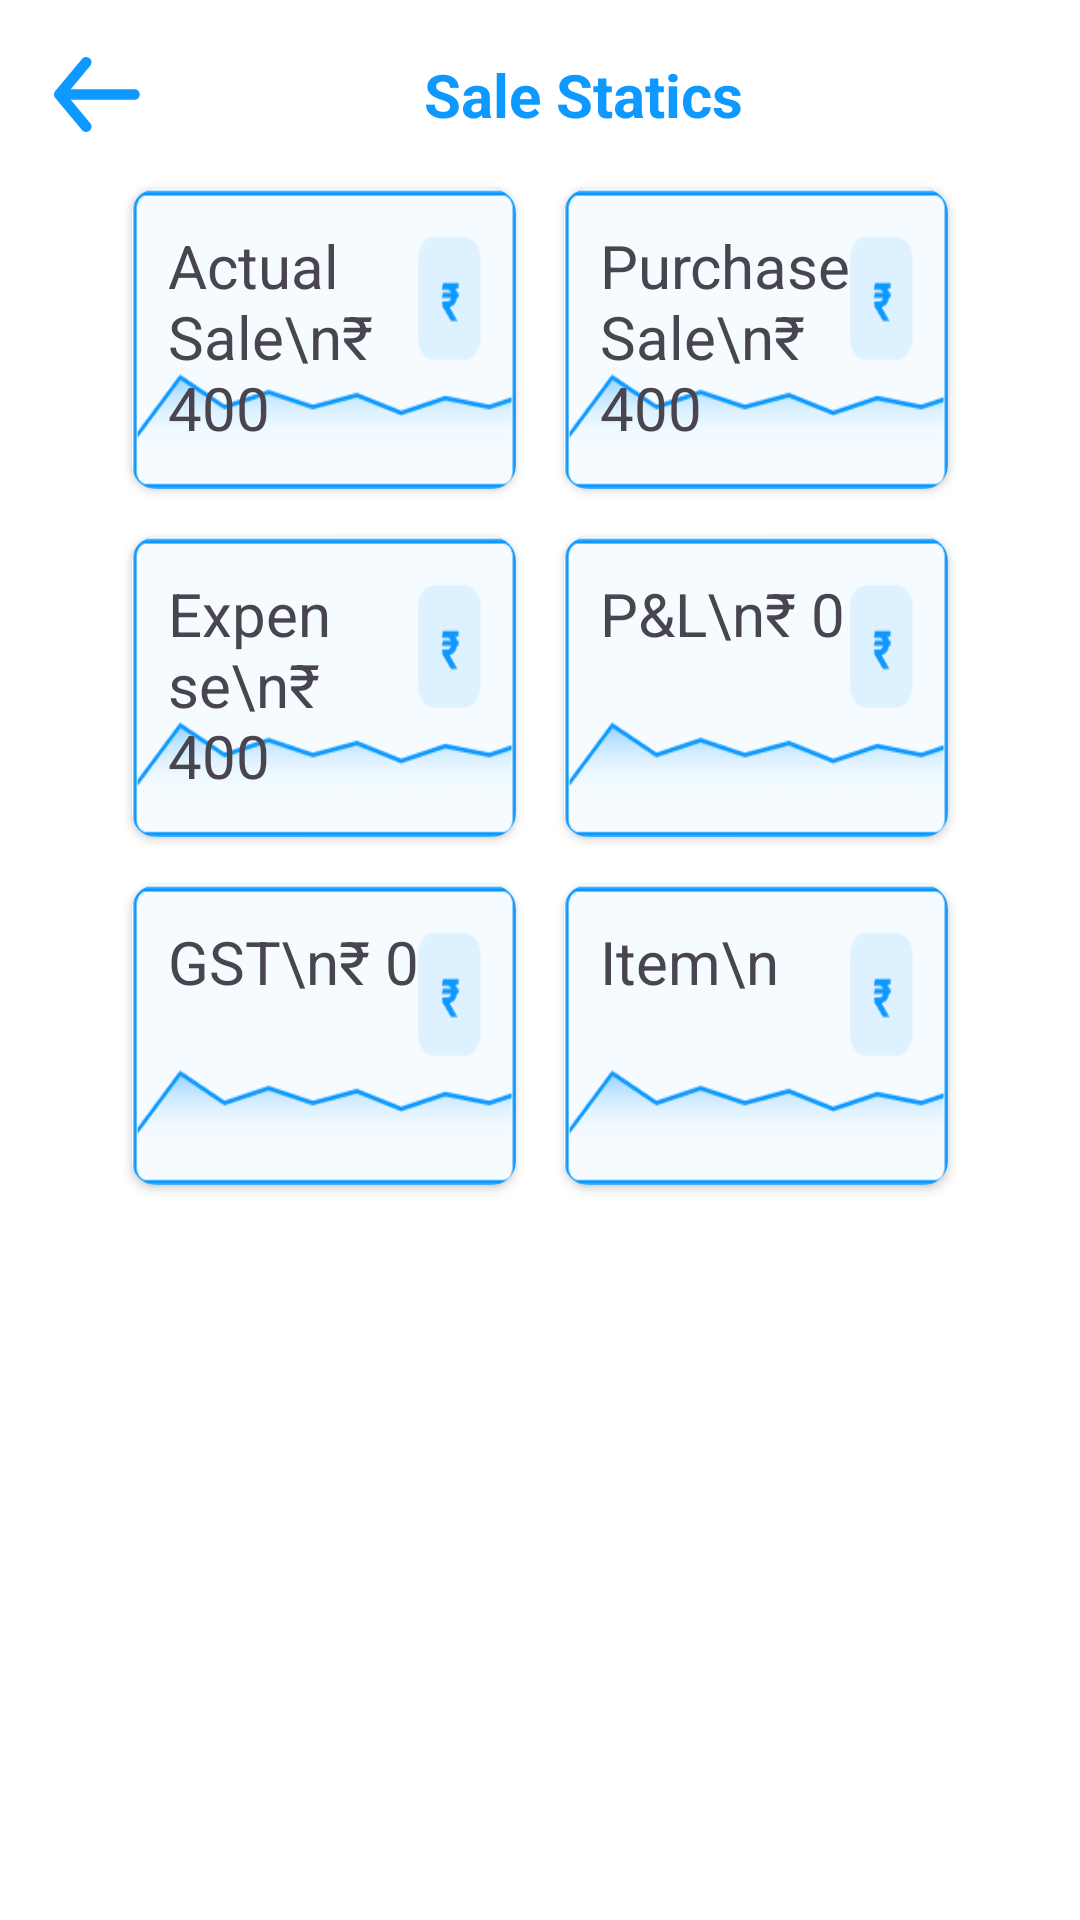

Icon click points for this 1080 x 1920 phone screenshot, format (x,y):
left arrow: (97,94)
